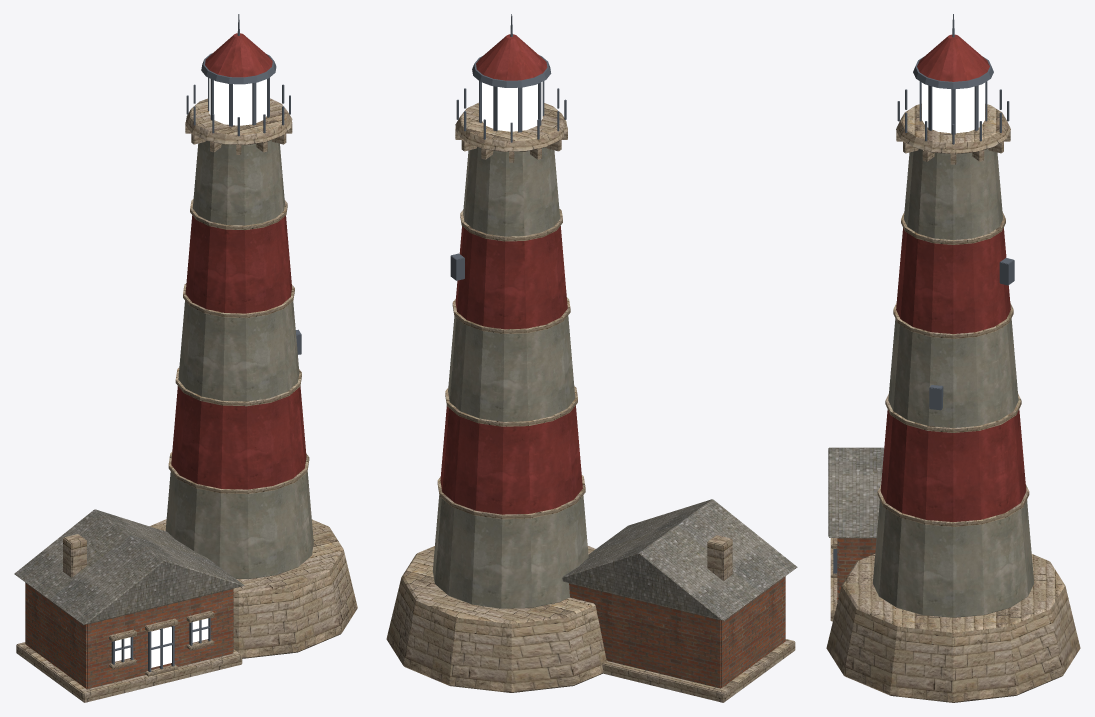
The model's file is landmark_coastal_lighthouse.glb.
3 views of the same model, side by side, from view 1: azimuth 30°, elevation 25°; view 2: azimuth 150°, elevation 25°; view 3: azimuth 270°, elevation 25° (orthographic). The views are drawn at different scales.
Visible parts, largest first — view 1: CotRoof, TowerBand_0, TowerBand_1, CotBody, BaseMasonry, TowerBand_2, TowerBand_3, TowerBand_4, CotBase, GalleryDeck, CupolaDome, LanternCore (+7 smaller); view 2: BaseMasonry, CotRoof, TowerBand_0, CotBody, TowerBand_1, TowerBand_2, TowerBand_3, TowerBand_4, CotBase, GalleryDeck, CupolaDome, LanternCore (+6 smaller); view 3: BaseMasonry, TowerBand_0, TowerBand_1, TowerBand_2, TowerBand_3, TowerBand_4, CotRoof, GalleryDeck, LanternCore, CupolaDome, CotBody, Course_0 (+4 smaller).
Boxes of the visible parts, left/top/right/bottom form: CotRoof: left=14, top=509, right=244, bottom=624; TowerBand_0: left=165, top=471, right=313, bottom=579; TowerBand_1: left=171, top=386, right=306, bottom=489; CotBody: left=25, top=582, right=233, bottom=689; BaseMasonry: left=149, top=519, right=357, bottom=658; TowerBand_2: left=178, top=300, right=299, bottom=401; TowerBand_3: left=185, top=215, right=291, bottom=313; TowerBand_4: left=192, top=140, right=284, bottom=225; CotBase: left=16, top=642, right=242, bottom=702; GalleryDeck: left=185, top=98, right=292, bottom=145; CupolaDome: left=205, top=33, right=272, bottom=77; LanternCore: left=209, top=78, right=266, bottom=125; BaseMasonry: left=386, top=546, right=607, bottom=692; CotRoof: left=562, top=499, right=797, bottom=620; TowerBand_0: left=432, top=495, right=588, bottom=608; CotBody: left=569, top=576, right=785, bottom=688; TowerBand_1: left=440, top=405, right=582, bottom=514; TowerBand_2: left=448, top=316, right=575, bottom=421; TowerBand_3: left=455, top=226, right=567, bottom=329; TowerBand_4: left=463, top=147, right=560, bottom=236; CotBase: left=602, top=639, right=795, bottom=702; GalleryDeck: left=455, top=102, right=567, bottom=151; CupolaDome: left=476, top=34, right=547, bottom=80; LanternCore: left=482, top=81, right=542, bottom=131; BaseMasonry: left=826, top=554, right=1080, bottom=702; TowerBand_0: left=873, top=500, right=1033, bottom=617; TowerBand_1: left=880, top=409, right=1026, bottom=521; TowerBand_2: left=888, top=318, right=1018, bottom=427; TowerBand_3: left=896, top=228, right=1010, bottom=333; TowerBand_4: left=904, top=149, right=1002, bottom=239; CotRoof: left=828, top=447, right=884, bottom=537; GalleryDeck: left=896, top=104, right=1010, bottom=154; LanternCore: left=922, top=83, right=984, bottom=133; CupolaDome: left=917, top=34, right=989, bottom=81; CotBody: left=837, top=538, right=876, bottom=602; Course_0: left=877, top=484, right=1029, bottom=526.
Size of the model in its own units: 17.15 by 30.82 by 11.17.
7 materials, 5 textured.
